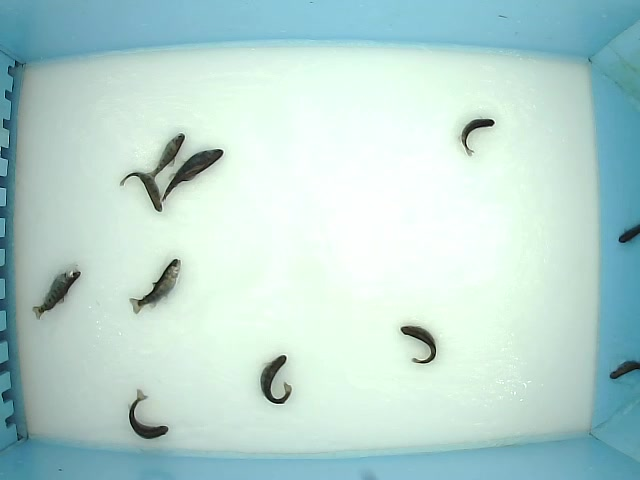fish: (160, 148, 224, 203), (128, 257, 182, 315), (31, 268, 82, 321), (127, 388, 169, 440), (145, 131, 186, 182), (119, 170, 163, 213), (258, 354, 292, 405), (457, 115, 495, 157), (399, 324, 437, 365)
